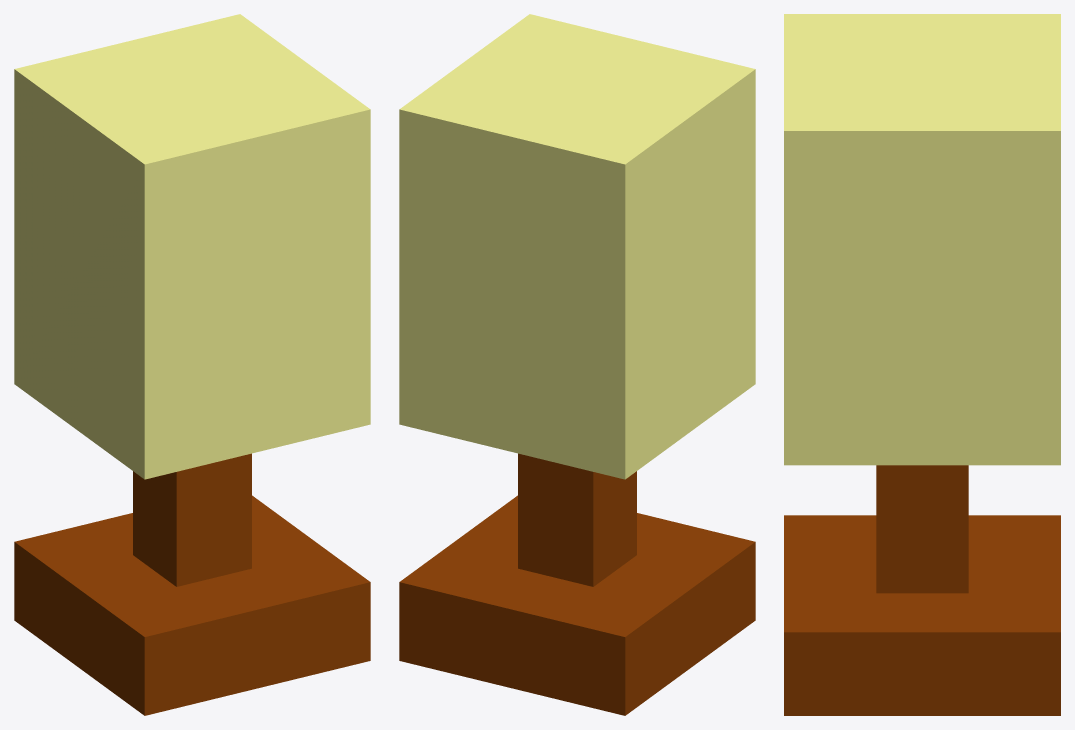
The model's file is lamp1.obj.
3 views of the same model, side by side, from view 1: azimuth 30°, elevation 25°; view 2: azimuth 150°, elevation 25°; view 3: azimuth 270°, elevation 25° (orthographic). The views are drawn at different scales.
Bounding box in the file's own units: 0.3 × 0.7 × 0.3.
Materials: 1 (1 with a texture image).
